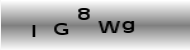8: (77, 6, 91, 20)
G: (53, 21, 69, 35)
W: (98, 19, 120, 33)
g: (122, 19, 135, 33)
l: (31, 23, 36, 38)
